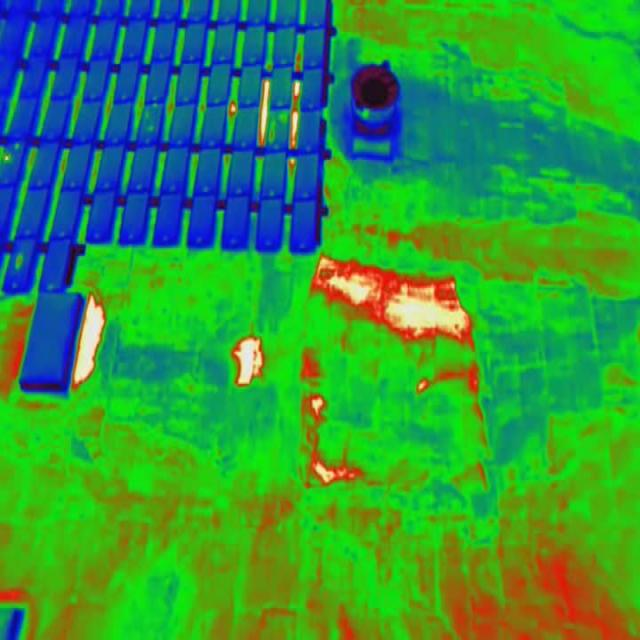Orange-Spots: (15, 252, 24, 268), (270, 123, 274, 142), (3, 154, 10, 162), (13, 143, 20, 150), (144, 110, 149, 119), (280, 115, 287, 121), (148, 126, 154, 132)
